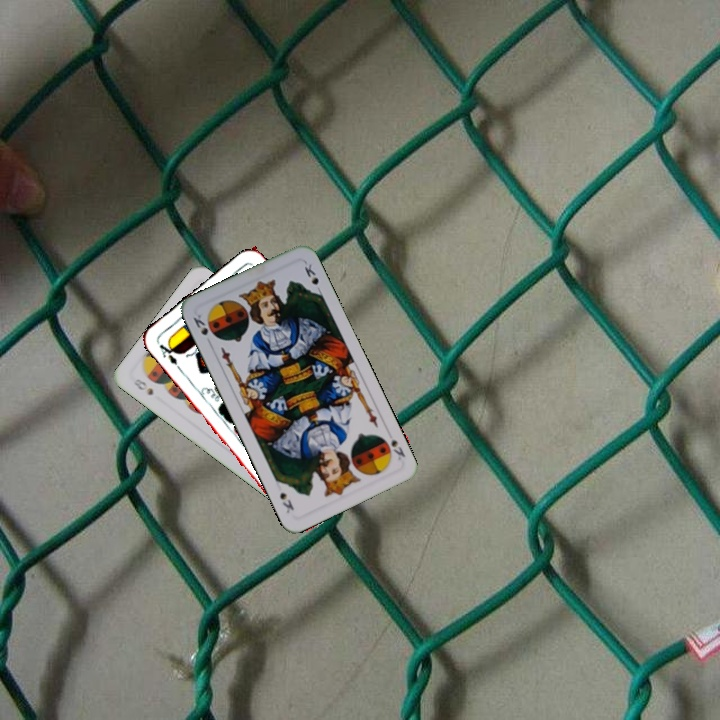EA: (155, 337, 181, 368)
S8: (129, 375, 156, 398)
SK: (189, 310, 218, 341), (387, 435, 408, 463)
